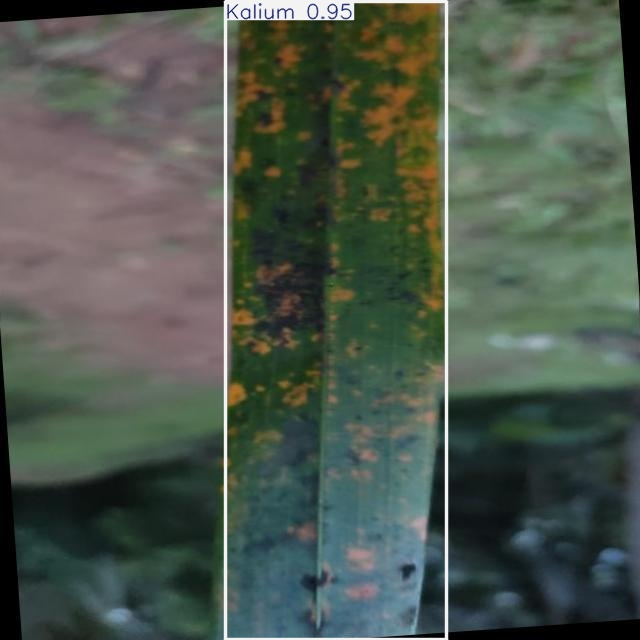Kalium: (225, 1, 446, 640)
